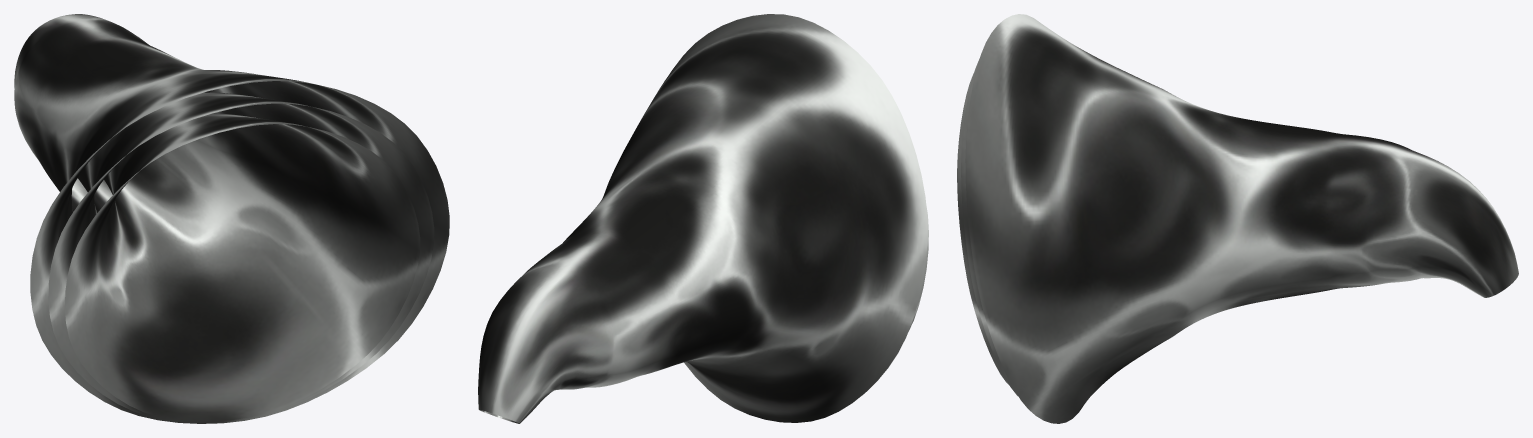
Rendered from L34_kpf_chouka_suidao001.FBX.
3 views of the same model, side by side, from view 1: azimuth 30°, elevation 25°; view 2: azimuth 150°, elevation 25°; view 3: azimuth 270°, elevation 25° (orthographic). The views are drawn at different scales.
Visible parts, largest first — view 1: L34_kpf_chouka_suidao3, L34_kpf_chouka_suidao4, L34_kpf_chouka_suidao1, L34_kpf_chouka_suidao2; view 2: L34_kpf_chouka_suidao4; view 3: L34_kpf_chouka_suidao4, L34_kpf_chouka_suidao1, L34_kpf_chouka_suidao3.
Boxes of the visible parts, left/top/right/bottom form: L34_kpf_chouka_suidao3: left=64, top=113, right=420, bottom=421; L34_kpf_chouka_suidao4: left=14, top=14, right=449, bottom=423; L34_kpf_chouka_suidao1: left=48, top=92, right=434, bottom=422; L34_kpf_chouka_suidao2: left=48, top=92, right=433, bottom=422; L34_kpf_chouka_suidao4: left=478, top=14, right=927, bottom=423; L34_kpf_chouka_suidao4: left=965, top=14, right=1518, bottom=423; L34_kpf_chouka_suidao1: left=961, top=58, right=1017, bottom=395; L34_kpf_chouka_suidao3: left=957, top=73, right=1008, bottom=384.
Bounding box in the file's own units: 1053 × 1063 × 1493.
